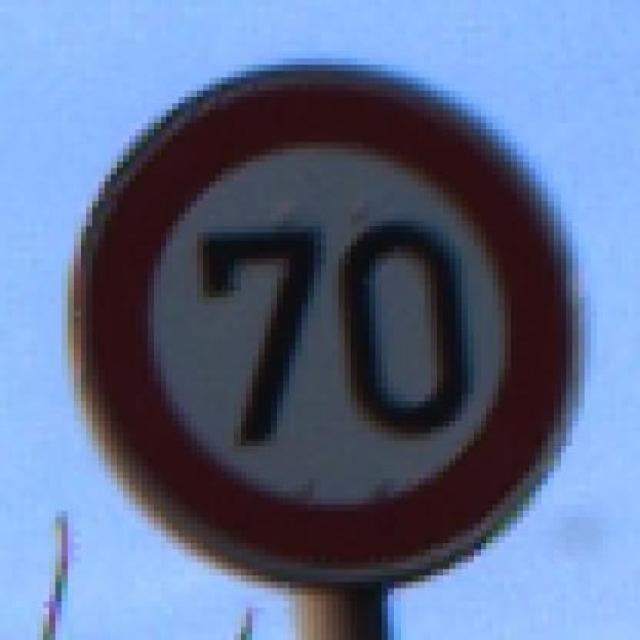forb_speed_over_70: (78, 72, 582, 579)
